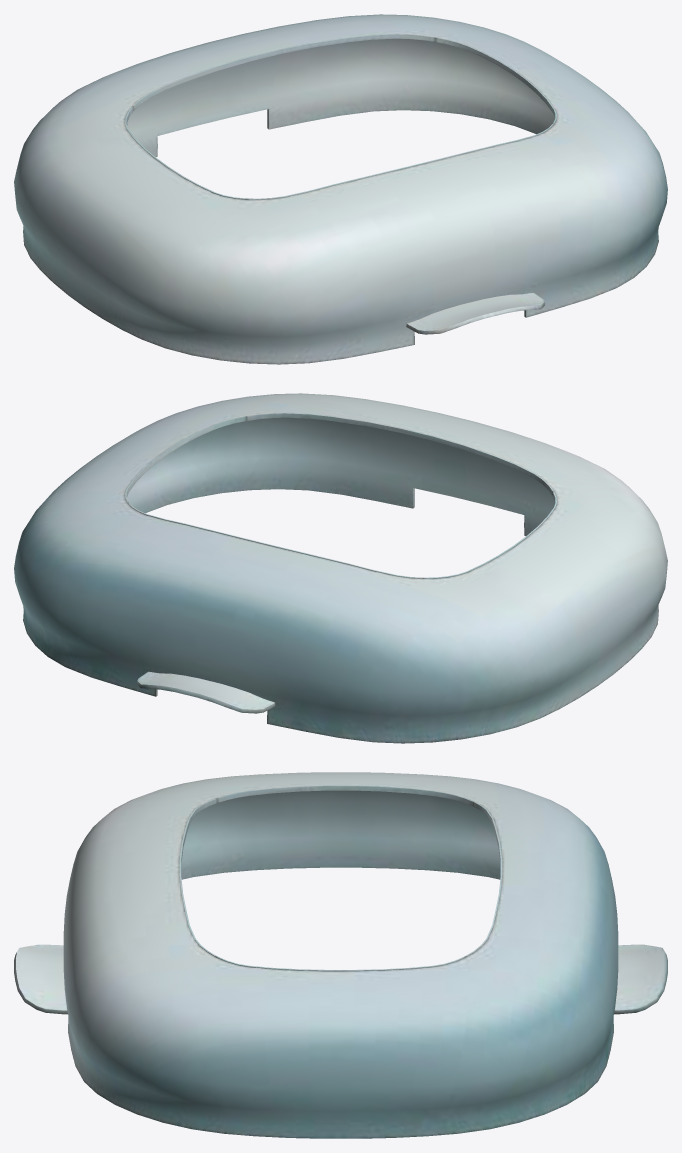
Rendered from stadion_roof.fbx.
3 views of the same model, one above another, from view 1: azimuth 30°, elevation 25°; view 2: azimuth 150°, elevation 25°; view 3: azimuth 270°, elevation 25° (orthographic). The views are drawn at different scales.
Parts seen in each view (by area): view 1: Krysha; view 2: Krysha; view 3: Krysha.
Part boxes in pixels (x1=…): Krysha: x1=14, y1=14, x2=667, y2=364; Krysha: x1=14, y1=393, x2=667, y2=743; Krysha: x1=14, y1=772, x2=667, y2=1138.
Bounding box in the file's own units: 2656 × 607 × 2668.
